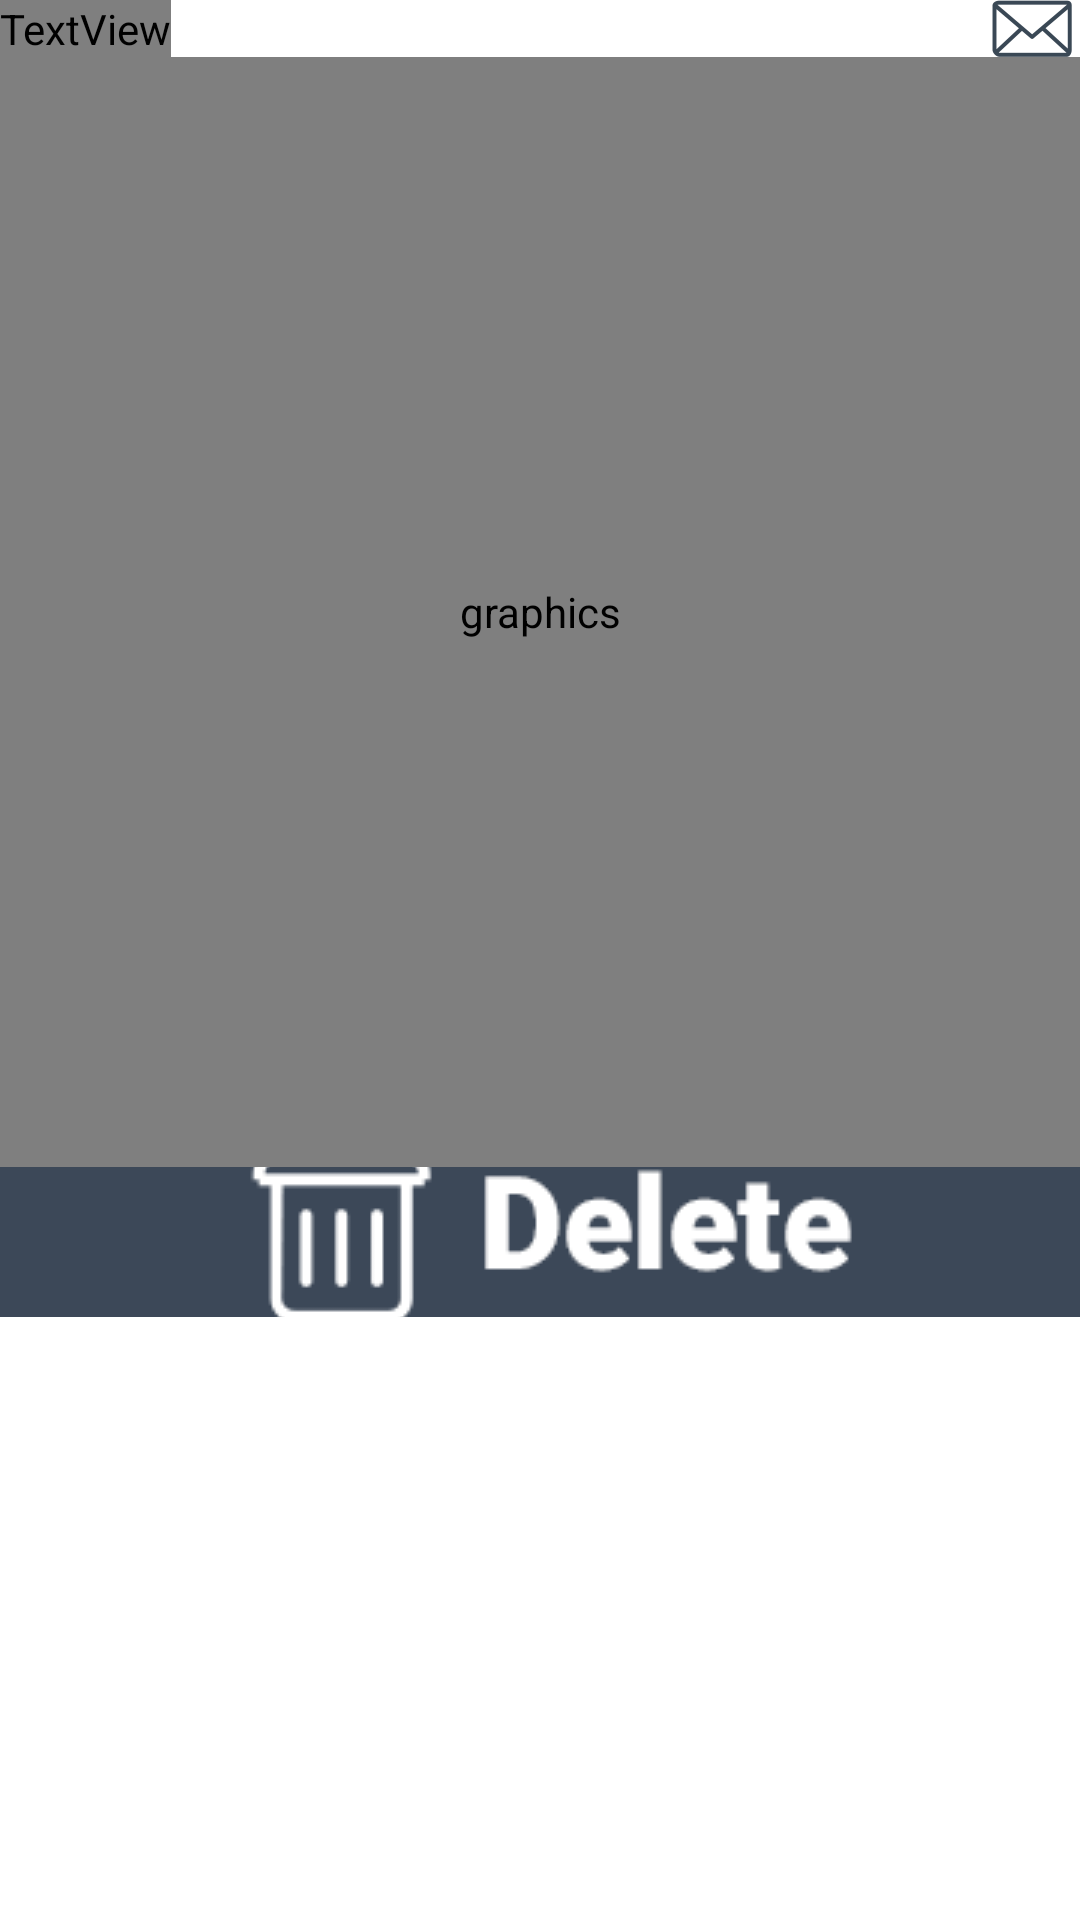

Locate icon controls on the screen. Image size 1080*1920, boxes as (x1, y1, x2, y2).
email: (984, 0, 1080, 57)
